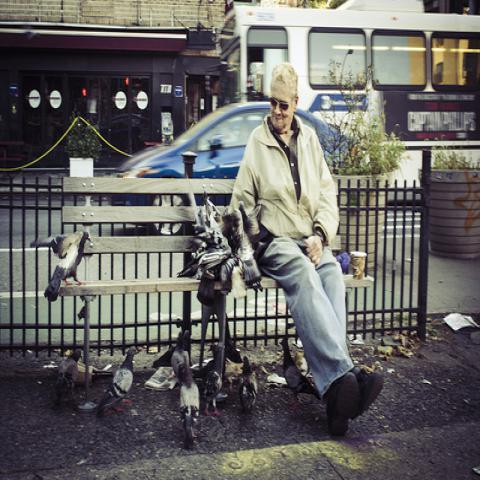bus: (217, 8, 479, 186)
car: (116, 97, 346, 175)
